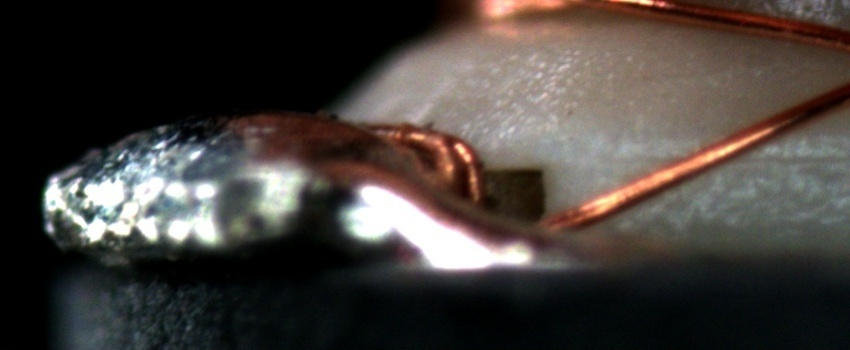DL: (599, 128, 849, 192)
TE: (370, 119, 486, 210)
